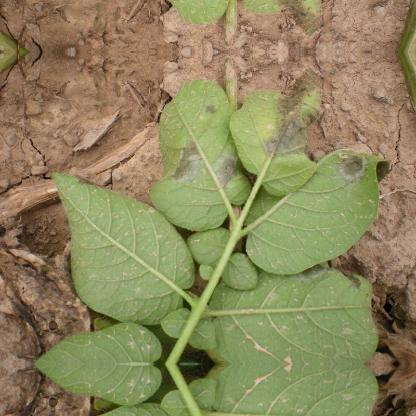Late-Blight: (216, 264, 392, 364), (250, 142, 392, 228), (115, 86, 210, 204), (215, 364, 392, 416)
